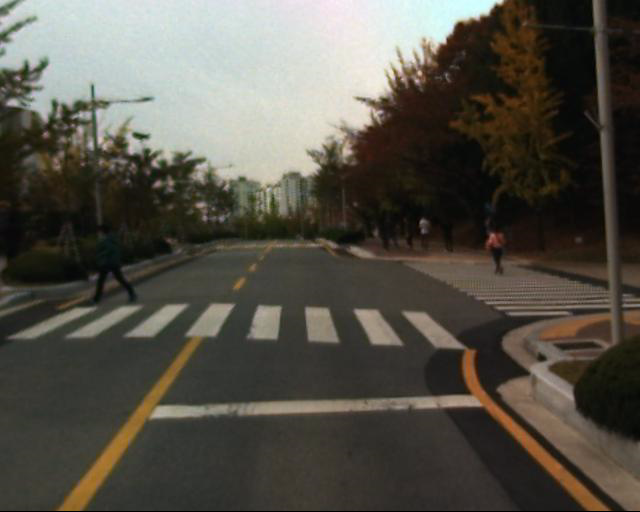person: (87, 222, 121, 309), (485, 224, 509, 280), (381, 221, 401, 263)
